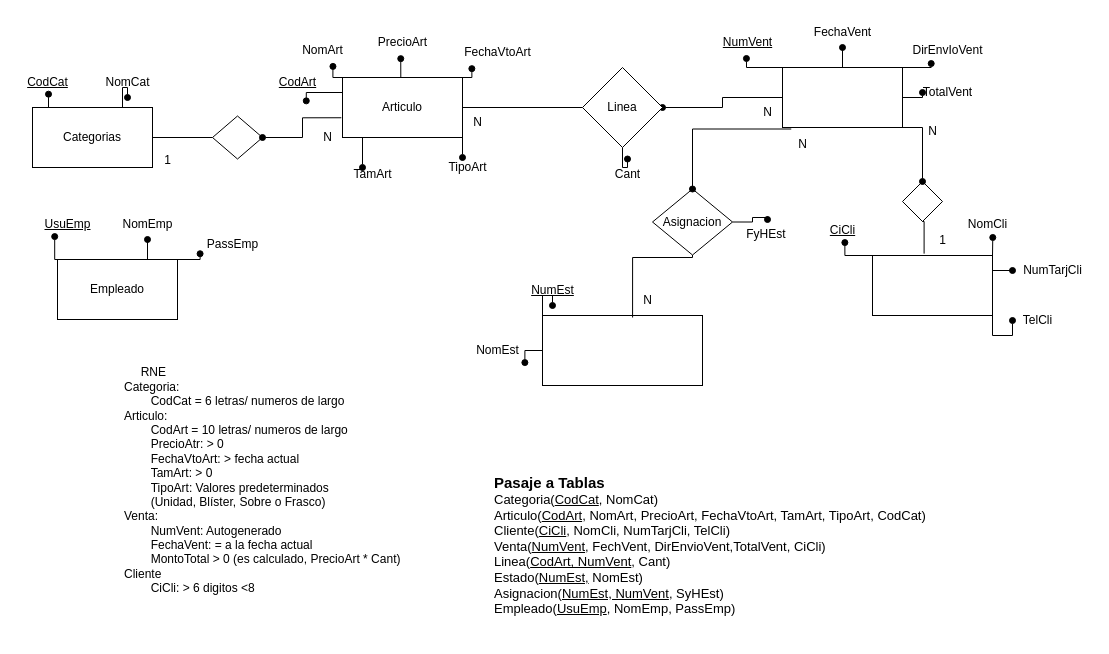
The diagram is 1109 pixels wide and 654 high, and some of its shapes have lost their labels. The centre of each missing label's shape, as x and y in pixels:
"Cliente" goes at pixel 932 285.
"Estado" goes at pixel 622 350.
"Venta" goes at pixel 842 97.
